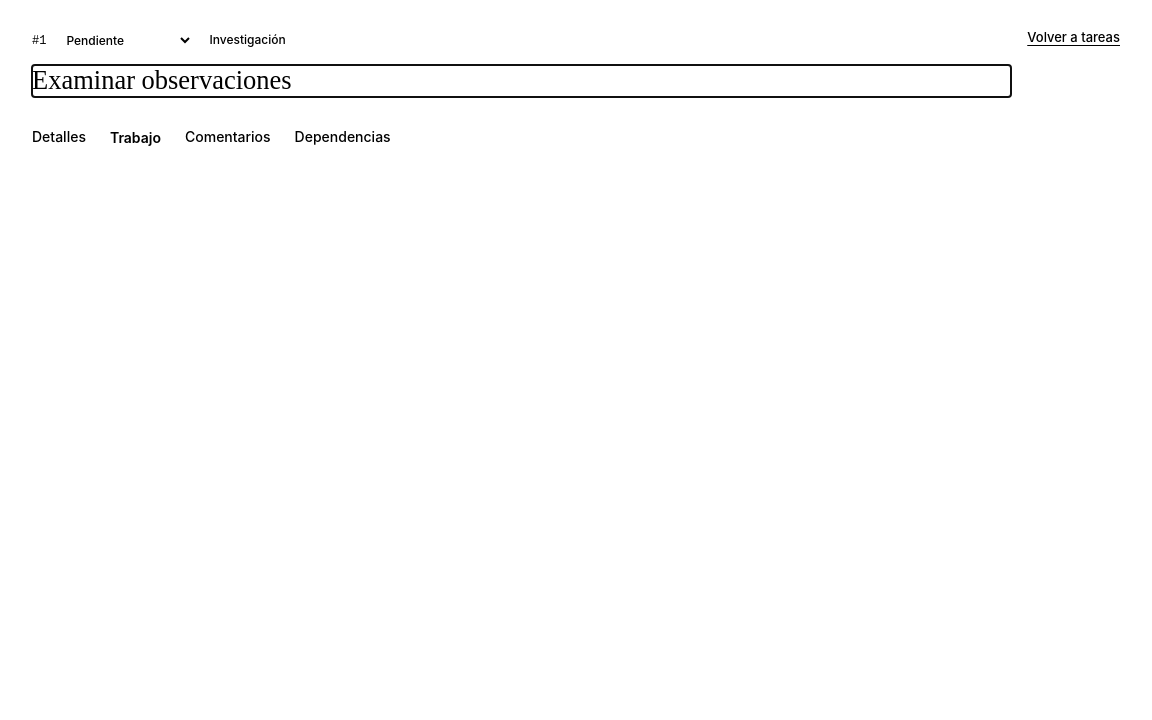
it: does not claim no comments when the latest read failed over an earlier empty snapshot
Click the button "Comentarios": click(228, 138) x1=173 y1=117 x2=283 y2=160
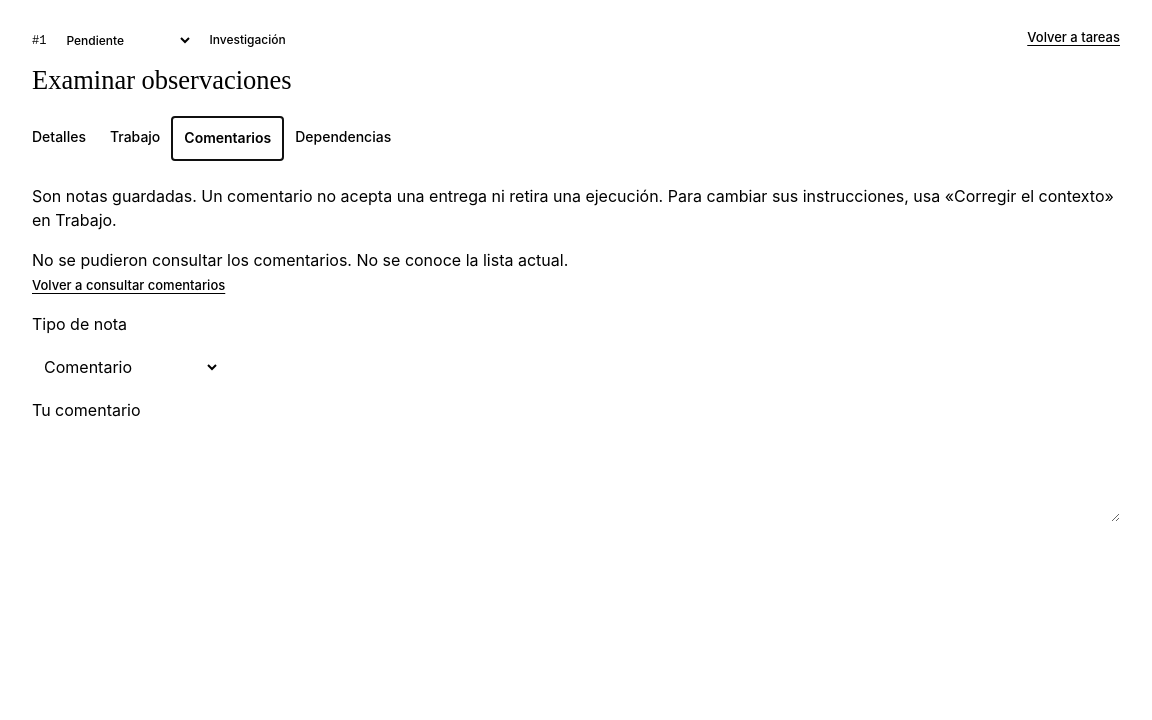
Expected: the message shows "No se pudieron consultar los comentarios", x1=32 y1=250 x2=356 y2=270
Expected: the button "Volver a consultar comentarios" is enabled, x1=32 y1=276 x2=225 y2=295
